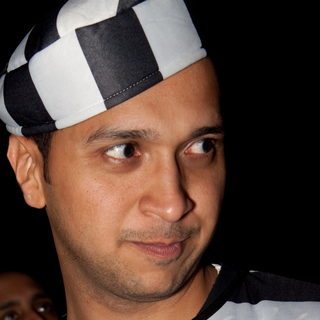eye: (97, 139, 144, 165), (180, 131, 223, 158)
